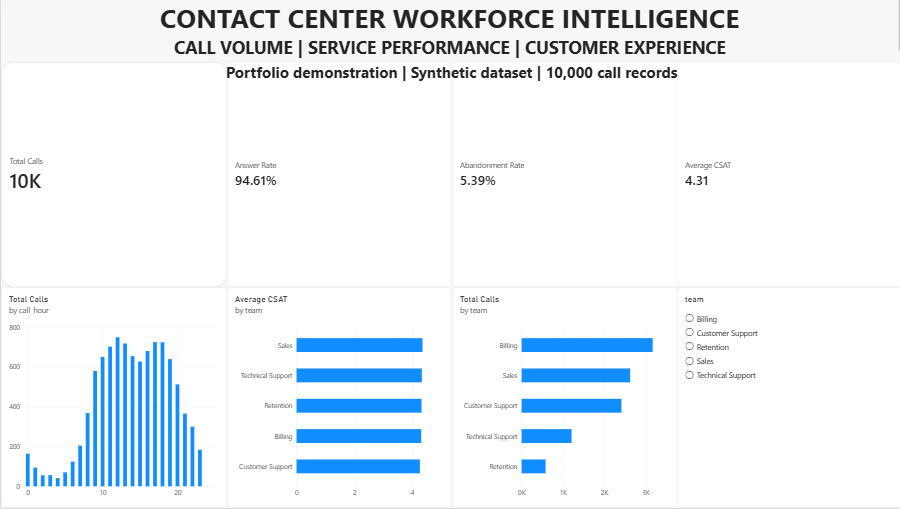

The dashboard page shown, as its layout file describes it:
{"tool":"powerbi","page":{"name":"Page 1","canvas":[1920,1080],"ordinal":0},"visuals":[{"type":"cardVisual","fields":{"Data":["call_records.Total Calls"]},"box":[0,132.1,481,479],"z":0},{"type":"cardVisual","fields":{"Data":["call_records.Answer Rate"]},"box":[481,132.1,476.9,479],"z":1000},{"type":"cardVisual","fields":{"Data":["call_records.Abandonment Rate"]},"box":[960,132.1,481,479],"z":2000},{"type":"cardVisual","fields":{"Data":["call_records.Average CSAT"]},"box":[1439,132.1,481,479],"z":3000},{"type":"clusteredColumnChart","fields":{"Category":["call_records.call_hour"],"Y":["call_records.Total Calls"]},"box":[0,611.1,481,469],"z":4000},{"type":"clusteredBarChart","fields":{"Category":["call_records.team"],"Y":["call_records.Average CSAT"]},"box":[481,611.1,477,469],"z":5000},{"type":"clusteredBarChart","fields":{"Category":["call_records.team"],"Y":["call_records.Total Calls"]},"box":[960,611.1,481,469],"z":6000},{"type":"listSlicer","fields":{"Values":["call_records.team"]},"box":[1439,611.1,479,468.6],"z":7000},{"type":"textbox","box":[0,0,1917.9,132.1],"z":7001},{"type":"textbox","box":[0,132.1,1917.9,68.1],"z":7002}]}

Visuals, with their boxes in screenshot pixels (x1, y1, x2, y2), scaled from the page's 1920x1080 canvas onto the 900x509 screenshot:
cardVisual - call_records.Total Calls: (left=0, top=62, right=225, bottom=288)
cardVisual - call_records.Answer Rate: (left=225, top=62, right=449, bottom=288)
cardVisual - call_records.Abandonment Rate: (left=450, top=62, right=675, bottom=288)
cardVisual - call_records.Average CSAT: (left=675, top=62, right=899, bottom=288)
clusteredColumnChart - call_records.call_hour x call_records.Total Calls: (left=0, top=288, right=225, bottom=508)
clusteredBarChart - call_records.team x call_records.Average CSAT: (left=225, top=288, right=449, bottom=508)
clusteredBarChart - call_records.team x call_records.Total Calls: (left=450, top=288, right=675, bottom=508)
listSlicer - call_records.team: (left=675, top=288, right=899, bottom=508)
textbox: (left=0, top=0, right=899, bottom=62)
textbox: (left=0, top=62, right=899, bottom=94)
